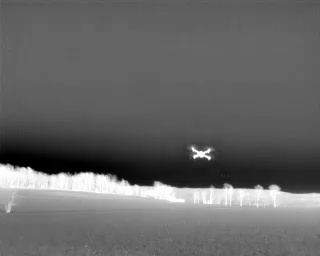DRONE: (184, 140, 218, 166)
